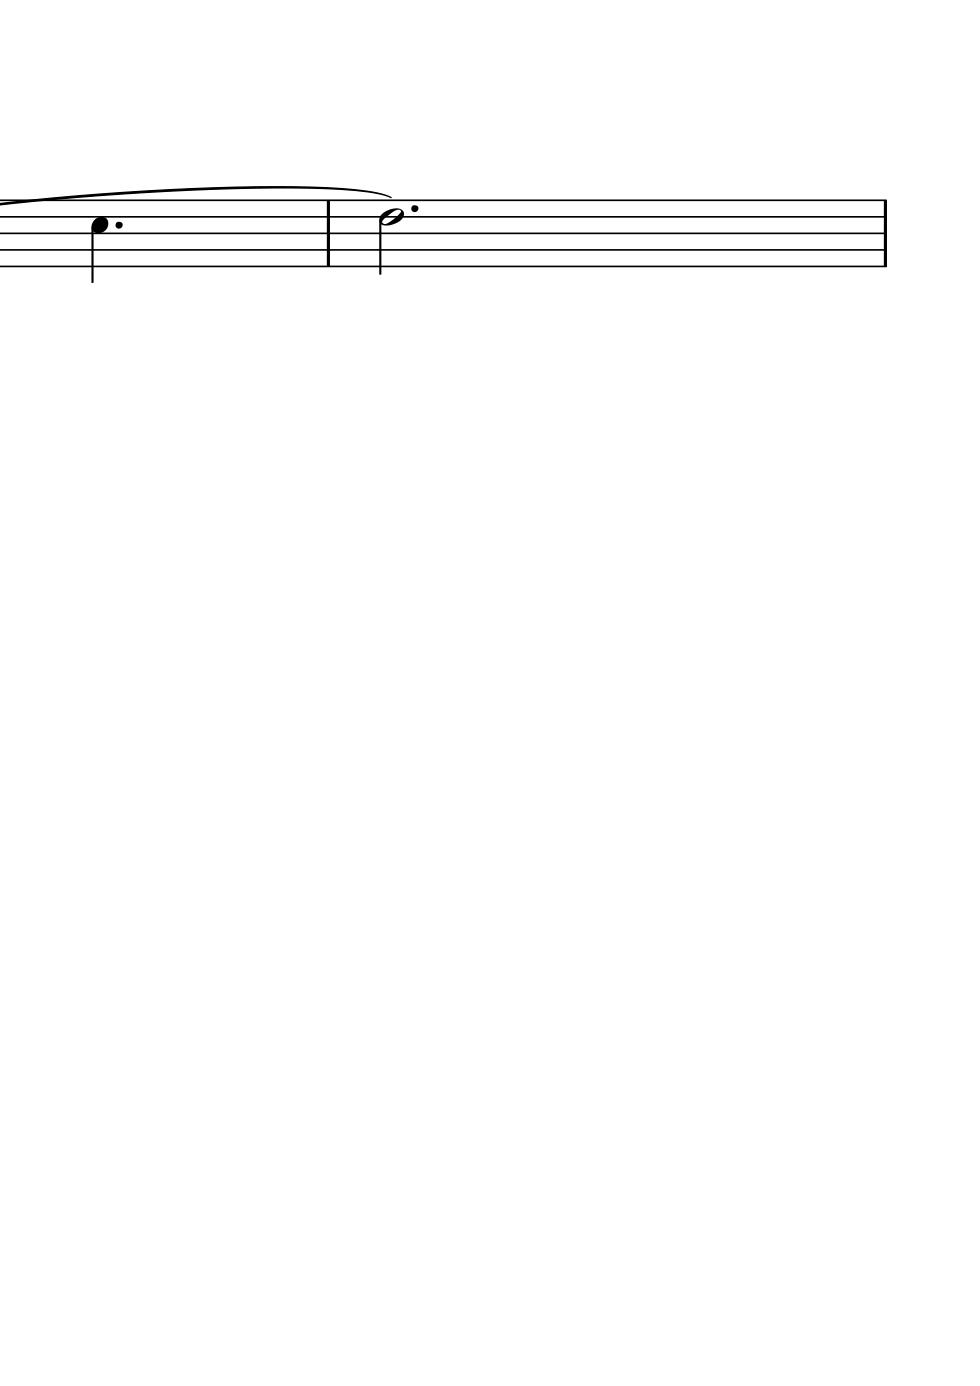2_6: (378, 198, 405, 276)
4_5: (90, 198, 110, 282)
Single_barline: (876, 200, 892, 267), (320, 201, 336, 266)
dot: (408, 201, 421, 216), (111, 220, 125, 232)
